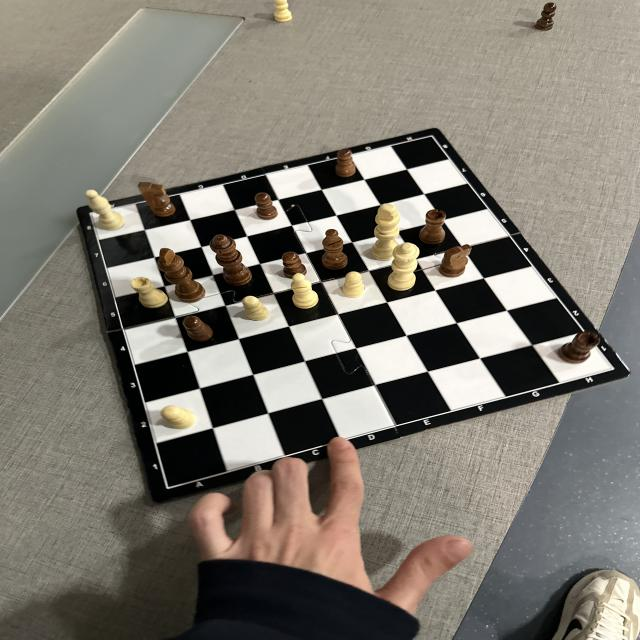Black-Bishop: (322, 228, 348, 270)
Black-King: (158, 247, 206, 303)
Black-Knight: (138, 181, 176, 217), (439, 244, 472, 278)
Black-Pawn: (184, 316, 214, 342), (282, 251, 307, 279), (534, 2, 557, 31), (255, 192, 278, 220), (335, 148, 356, 178)
Black-Queen: (210, 234, 252, 286)
Black-Rook: (558, 331, 600, 364), (419, 208, 446, 244)
White-Bishop: (85, 189, 126, 231), (290, 273, 318, 309)
White-King: (372, 203, 401, 261)
White-Pawn: (160, 405, 196, 429), (242, 296, 269, 321), (342, 271, 366, 298), (274, 0, 292, 22)
White-Queen: (387, 242, 420, 291)
White-Rook: (130, 276, 168, 308)
